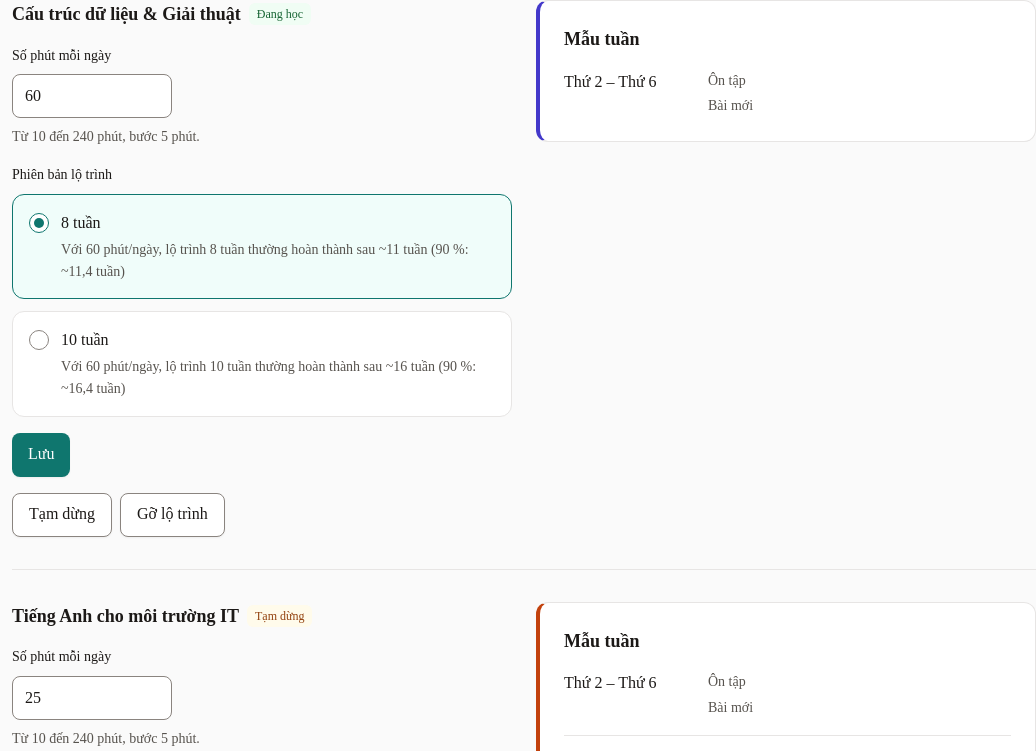
Test: TrackSettings — minutes and variant › shows field errors under the fields and the message in an alert
Click the button "Lưu" at point(41, 455), box [12,433,70,477]
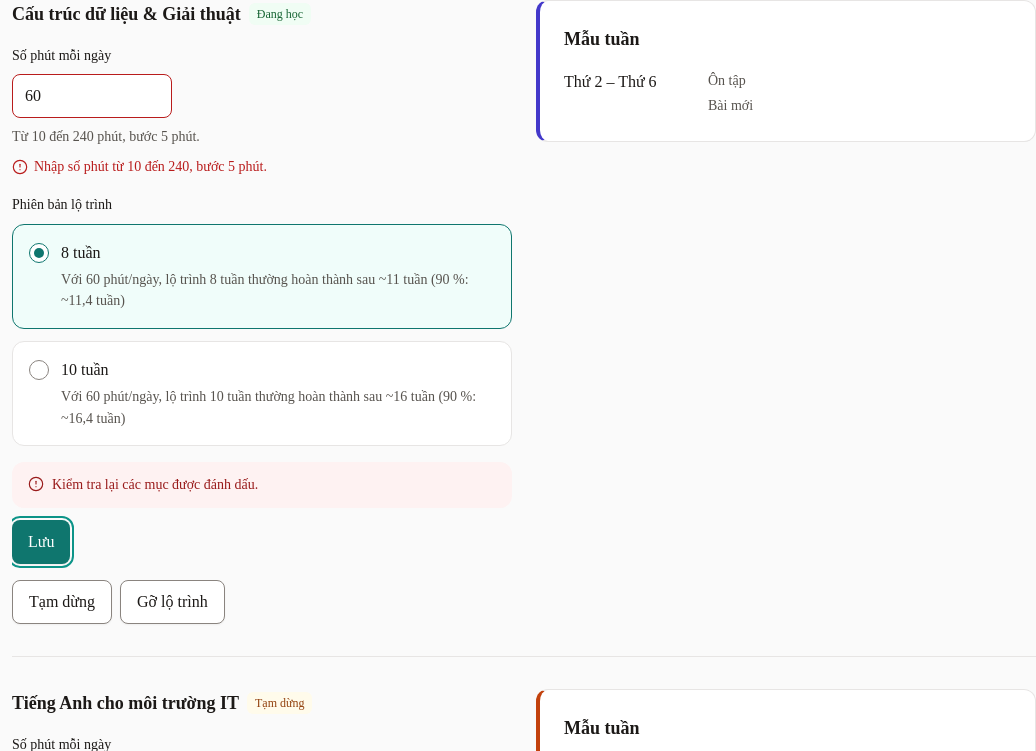
Now the text "Kiểm tra lại các mục được đánh dấu." is shown, box [52,474,258,496]
Now the text "Nhập số phút từ 10 đến 240, bước 5 phút." is shown, box [12,159,267,175]
